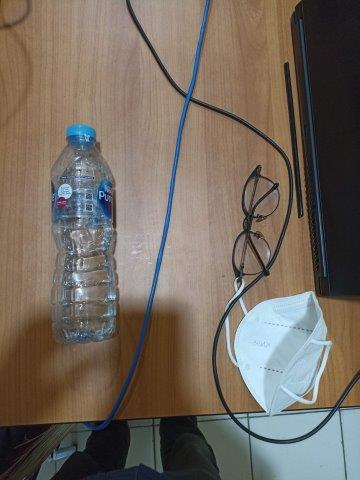botolplastik: (54, 125, 118, 344)
